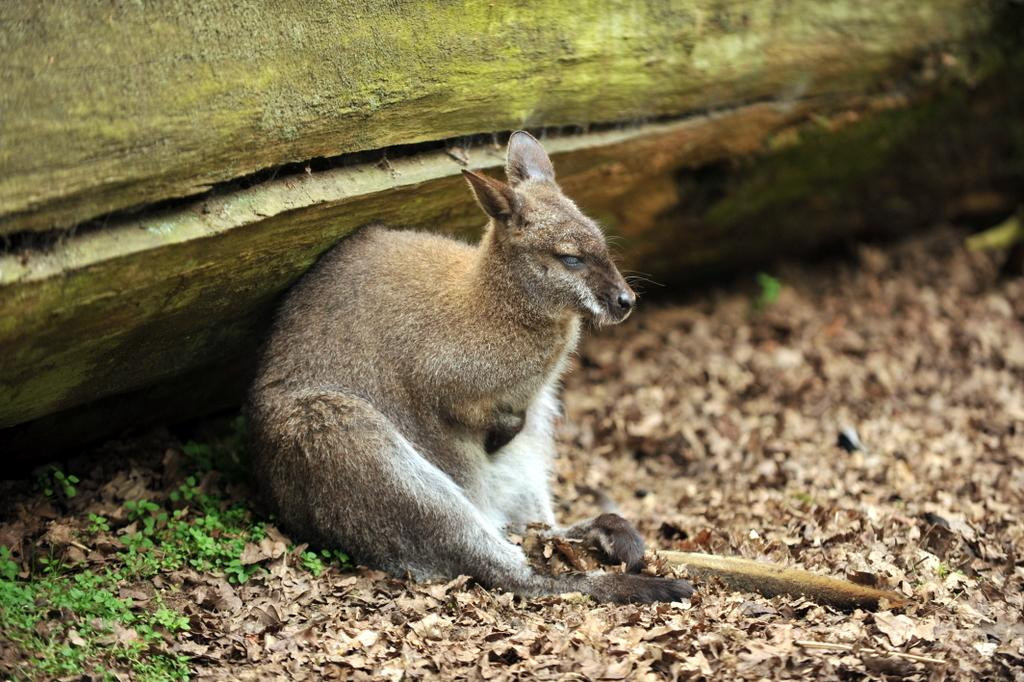kangaroo: (247, 128, 694, 600)
